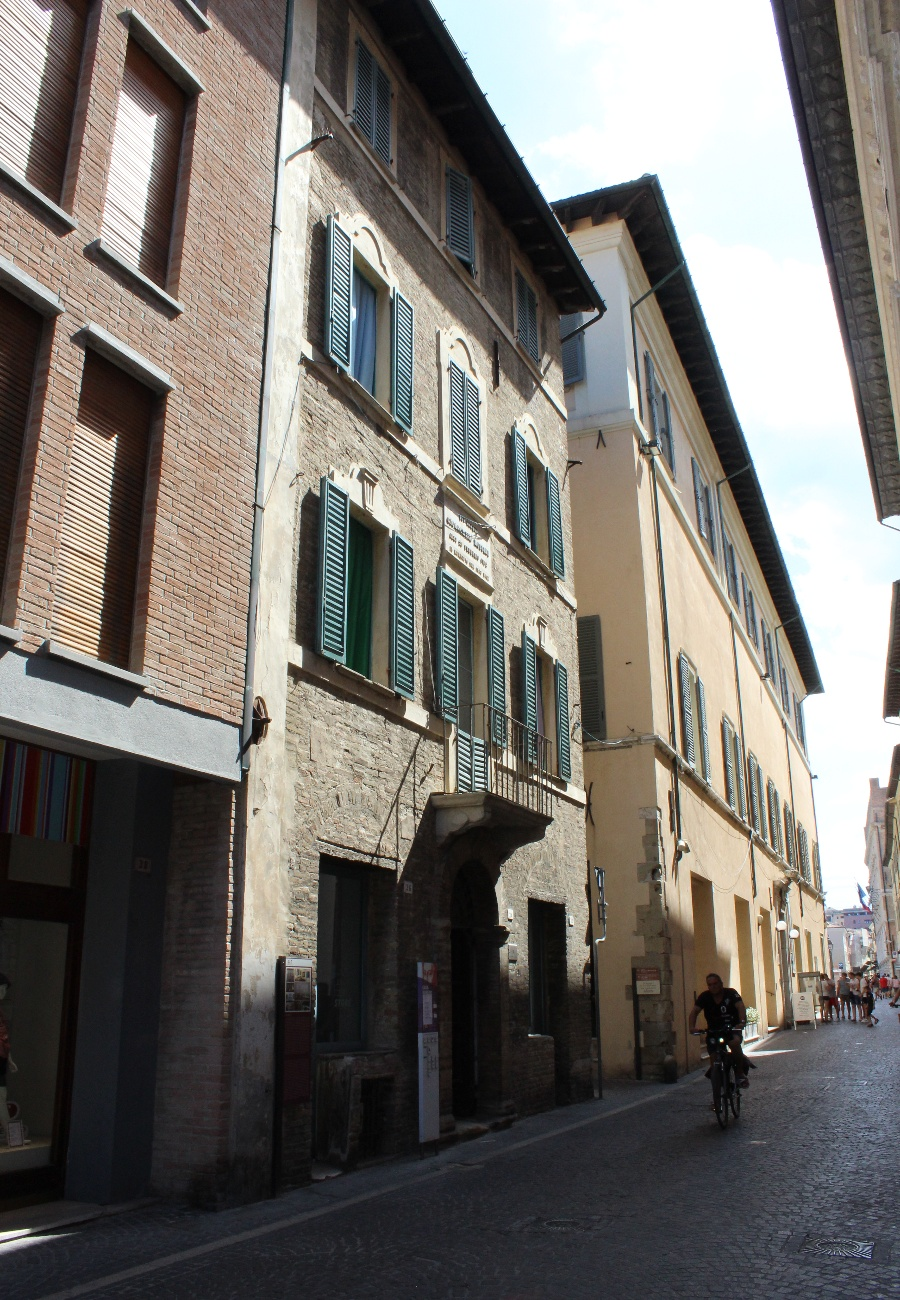Casa Rossini: (203, 1, 606, 1180)
